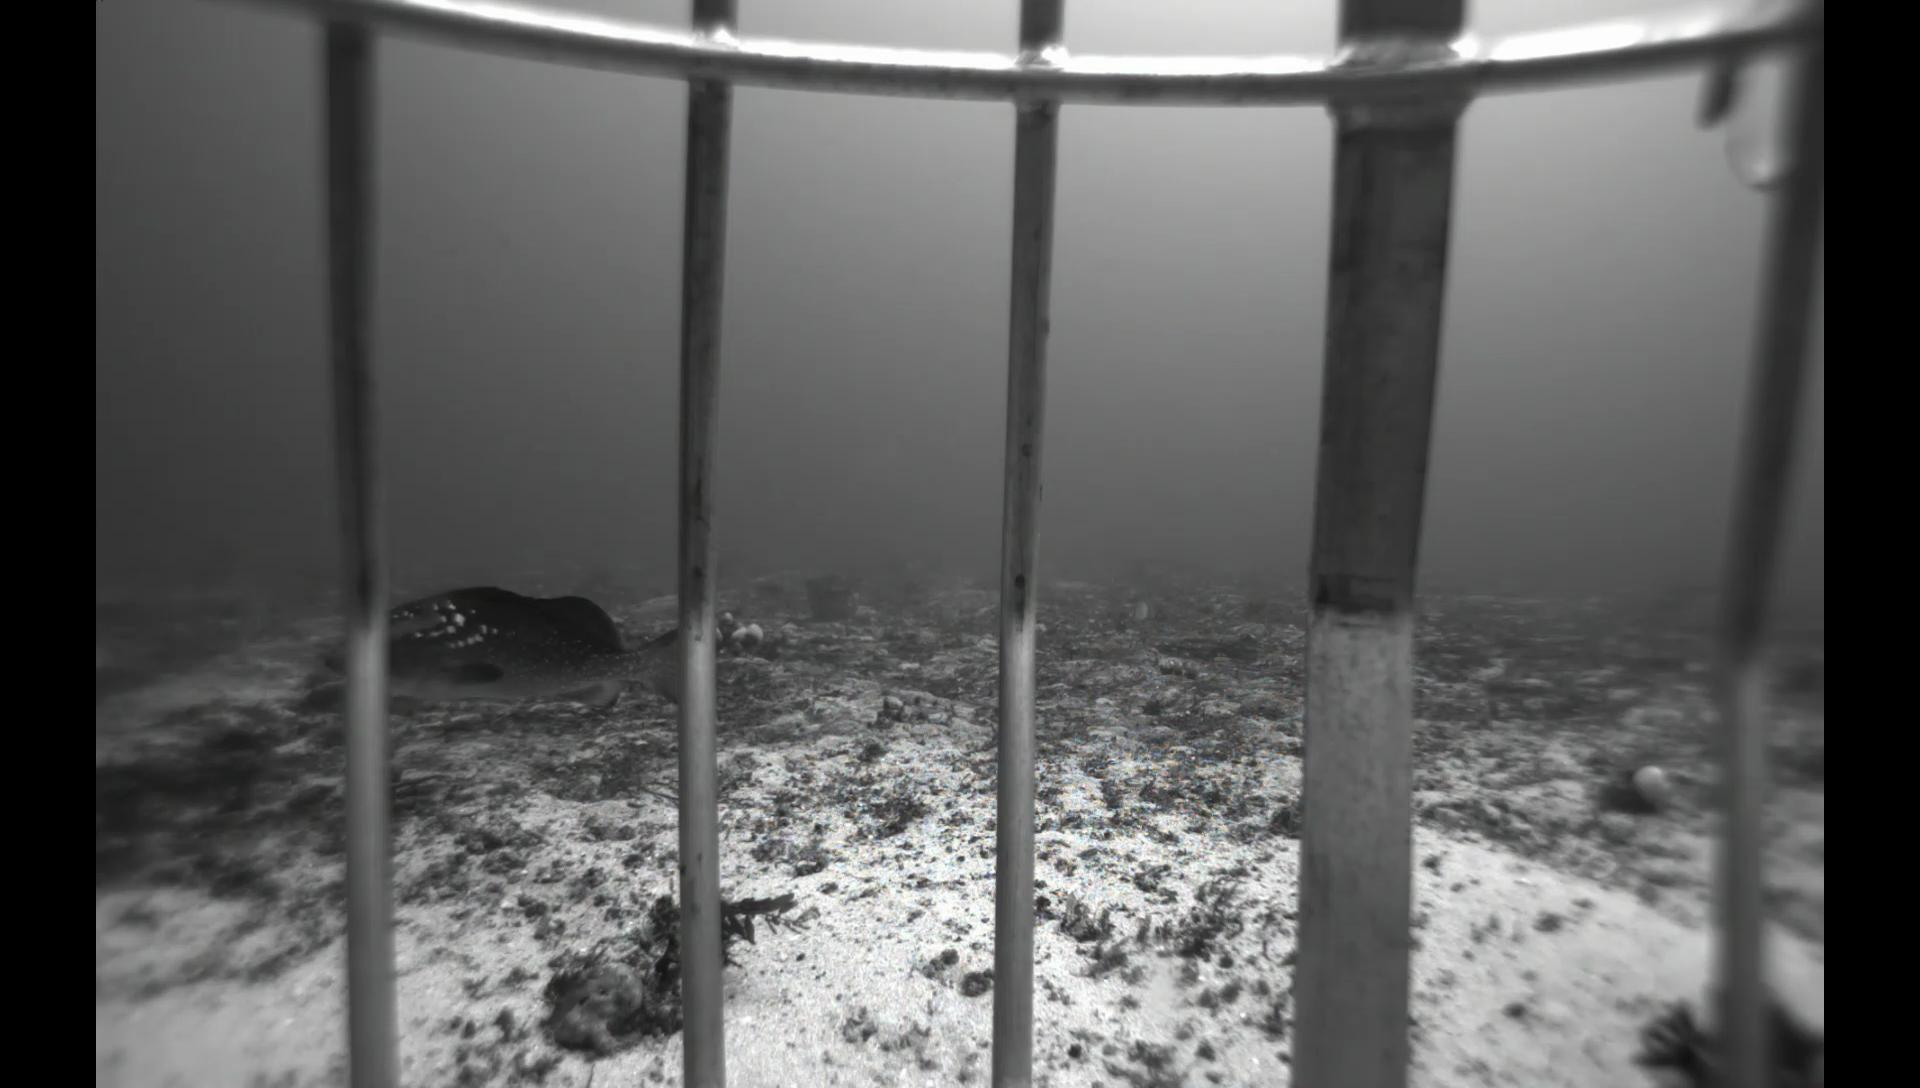CHAETODONOCELLATUS-170260307: (1126, 601, 1155, 622), (1118, 583, 1139, 601)
EPINEPHELUSMORIO-170021211: (315, 580, 683, 717)
HALICHOERESBIVITTATUS-170281202: (196, 691, 235, 715)
PRISTIGENYSALTA-170050401: (291, 677, 345, 717)
